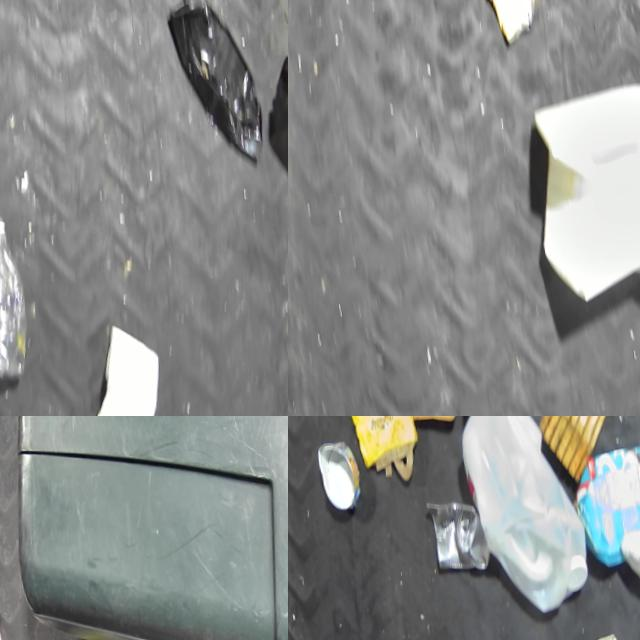can: (418, 490, 482, 579), (305, 430, 358, 525), (475, 0, 540, 45)
milk_jug: (519, 69, 640, 306), (446, 416, 586, 612)
